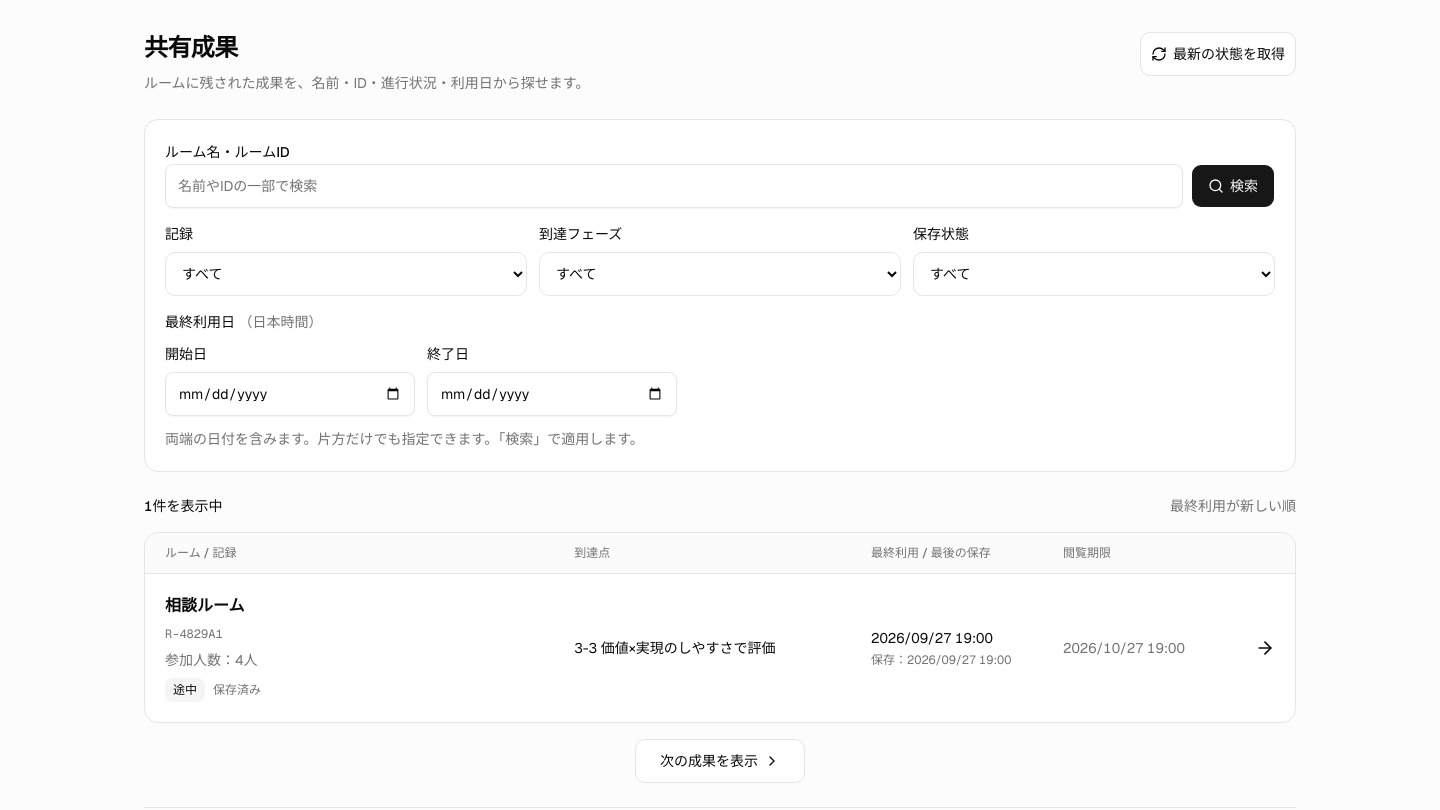
条件の解除で、まだ適用していない日付の入力も消す
expect the link "相談ルーム" is shown: met, box 145,574 -> 1295,722
Select "保存失敗" in the dropdown labelled "保存状態" at (1094, 274), box 913,252 -> 1275,296
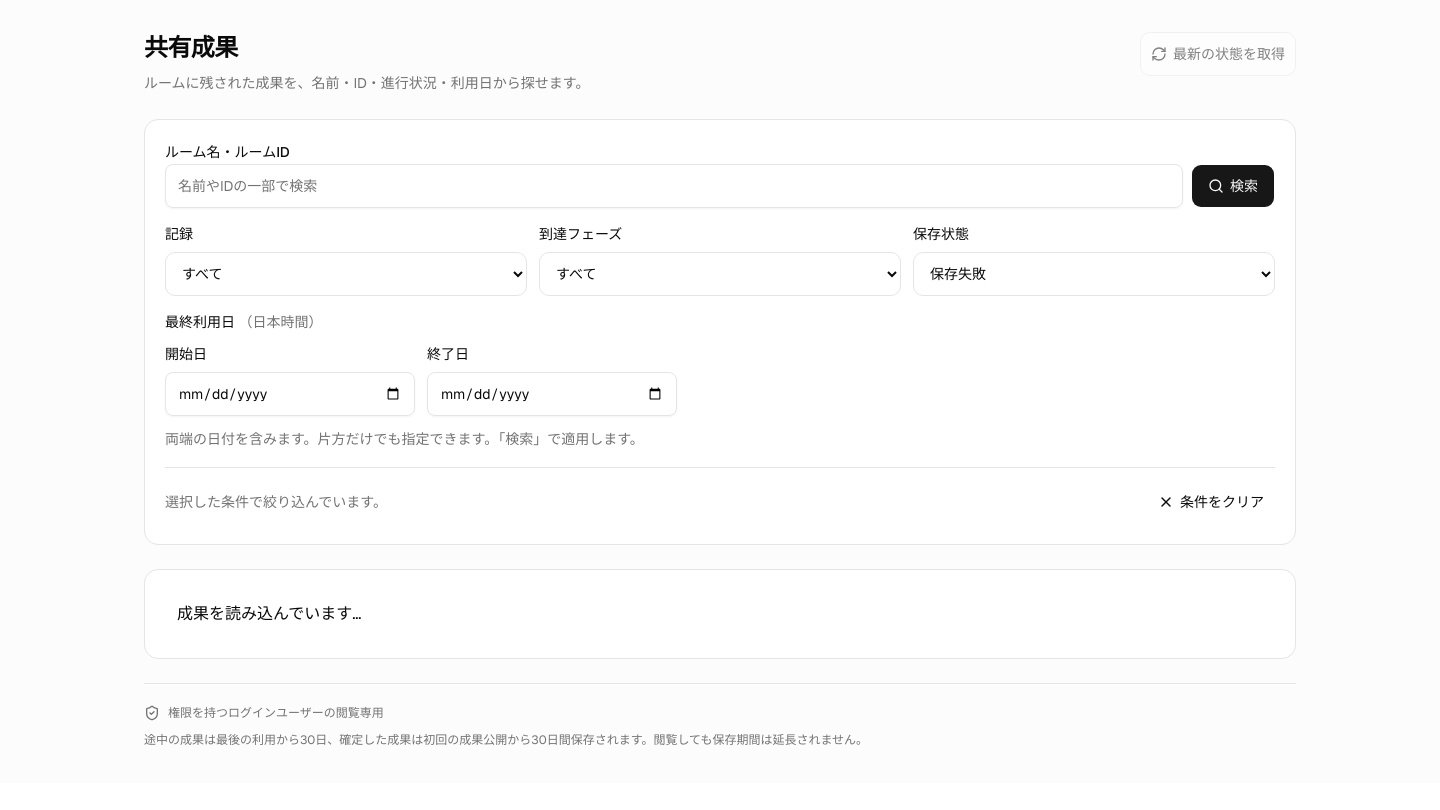
expect the button "条件をクリア" is shown: met, box 1147,480 -> 1275,524
Type "2026-09-01" into the date field labelled "開始日" at (290, 394), box 165,372 -> 415,416
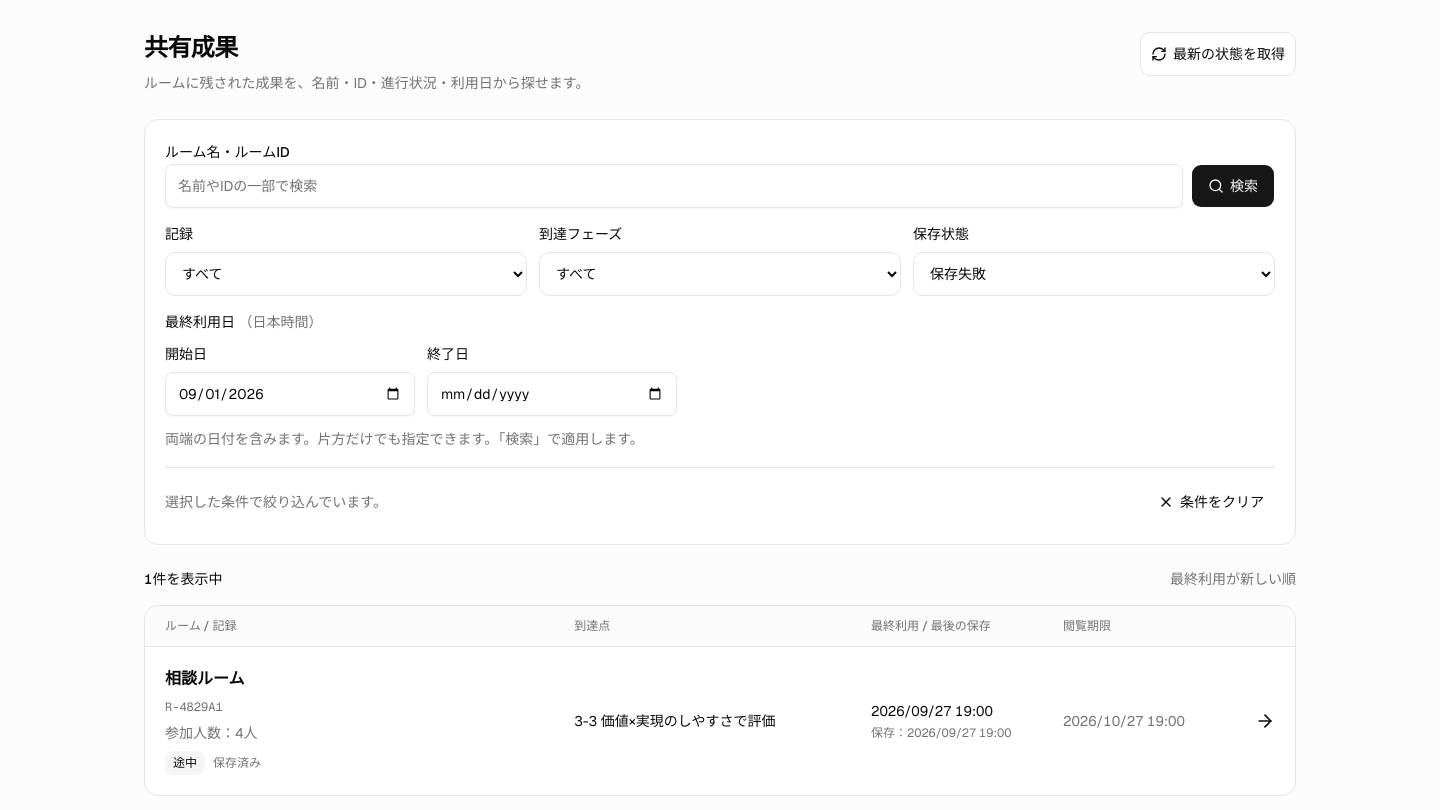
Click the button "条件をクリア" at (1211, 502), box 1147,480 -> 1275,524
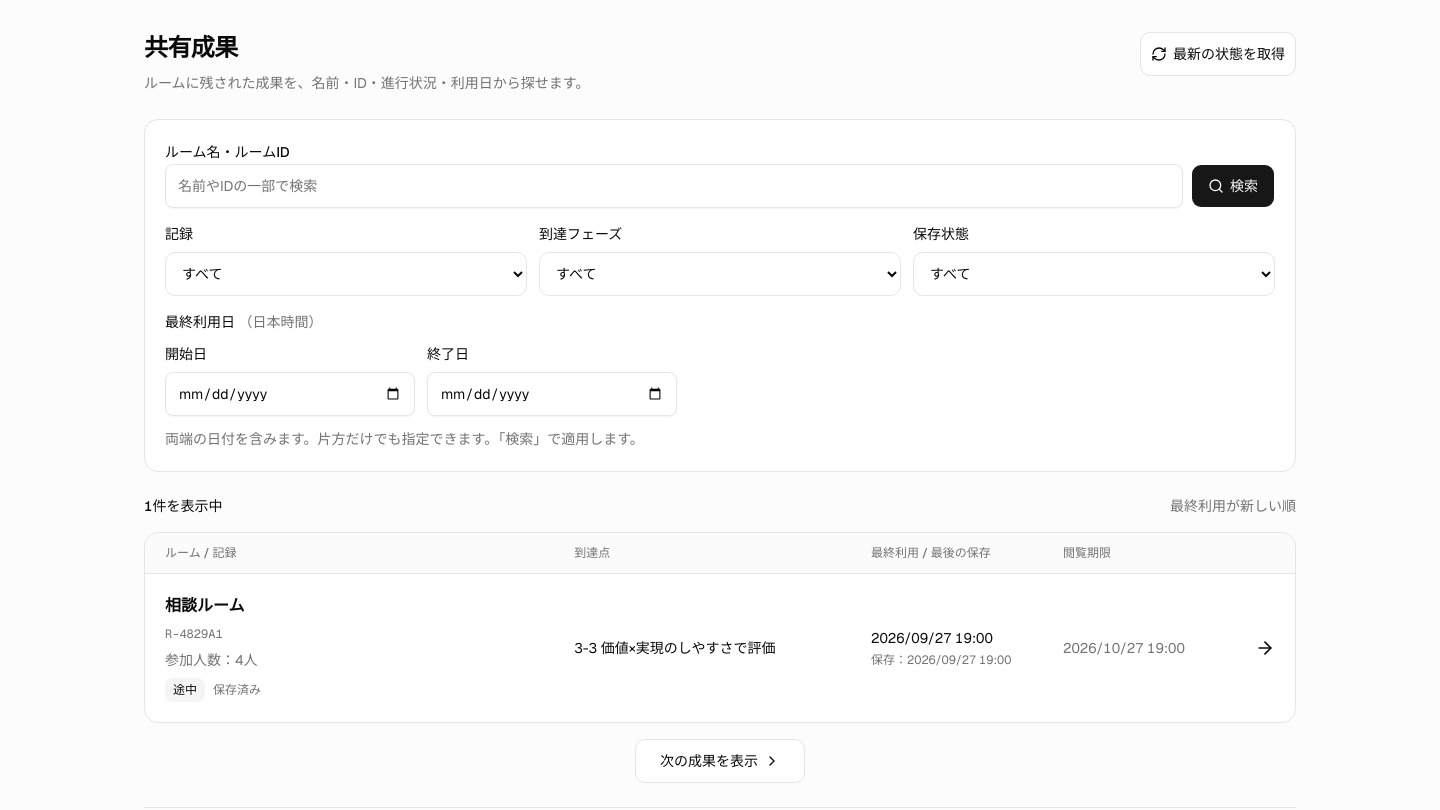
expect the date field labelled "開始日" is empty: met, box 165,372 -> 415,416
